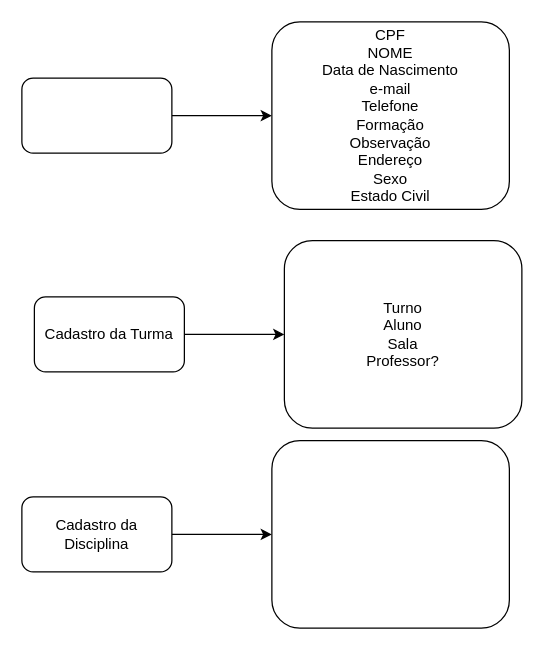
Image size: 544x650. Some labels were removed from this diagram. The box of each missing label's shape, as (x1, y1, x2, y2) in pixels:
Cadastro do Professor: (21, 77, 172, 153)
Nome CH: (271, 439, 509, 628)
